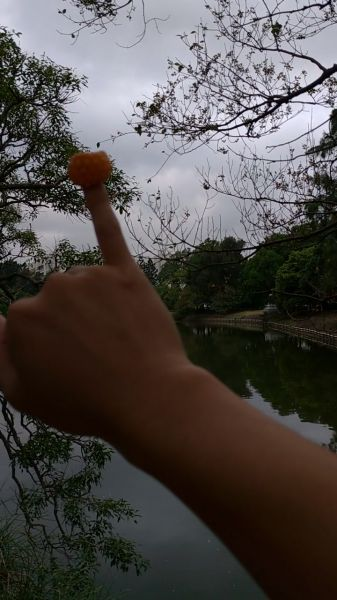eggs: (67, 151, 112, 187)
